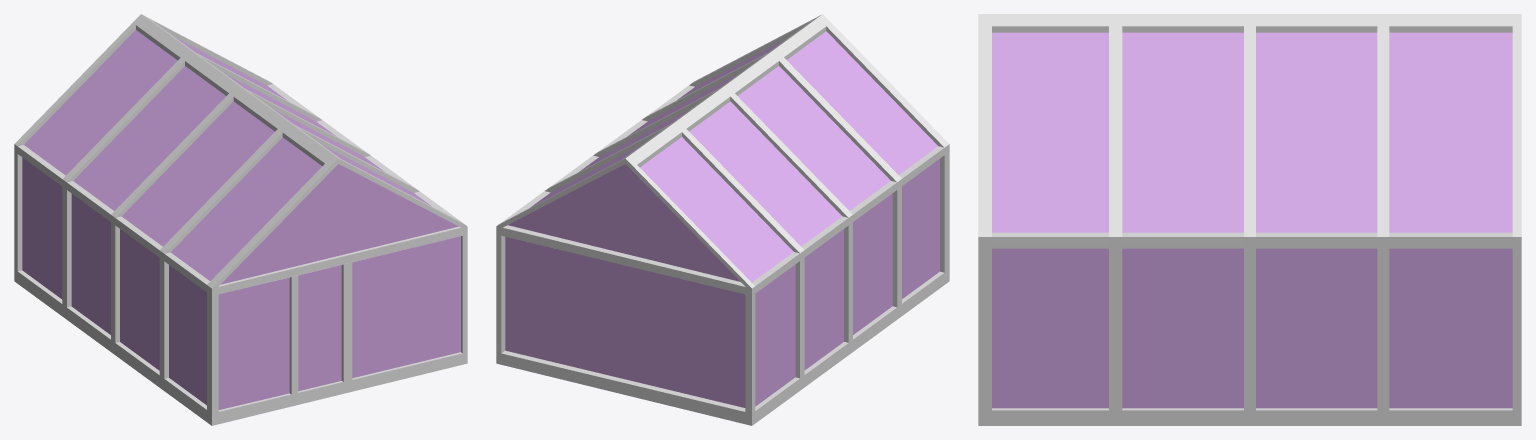
Rendered from SM_Bld_Greenhouse_01.fbx.
3 renders of one model, left to right at view 1: azimuth 30°, elevation 25°; view 2: azimuth 150°, elevation 25°; view 3: azimuth 270°, elevation 25°, orthographic. The views are drawn at different scales.
Parts seen in each view (by area): view 1: Plane; view 2: Plane; view 3: Plane.
Boxes of the visible parts, <box> form: Plane: <box>14,14,467,425</box>; Plane: <box>496,14,949,425</box>; Plane: <box>978,14,1521,425</box>.
Size of the model in its own units: 563 by 498 by 753.
